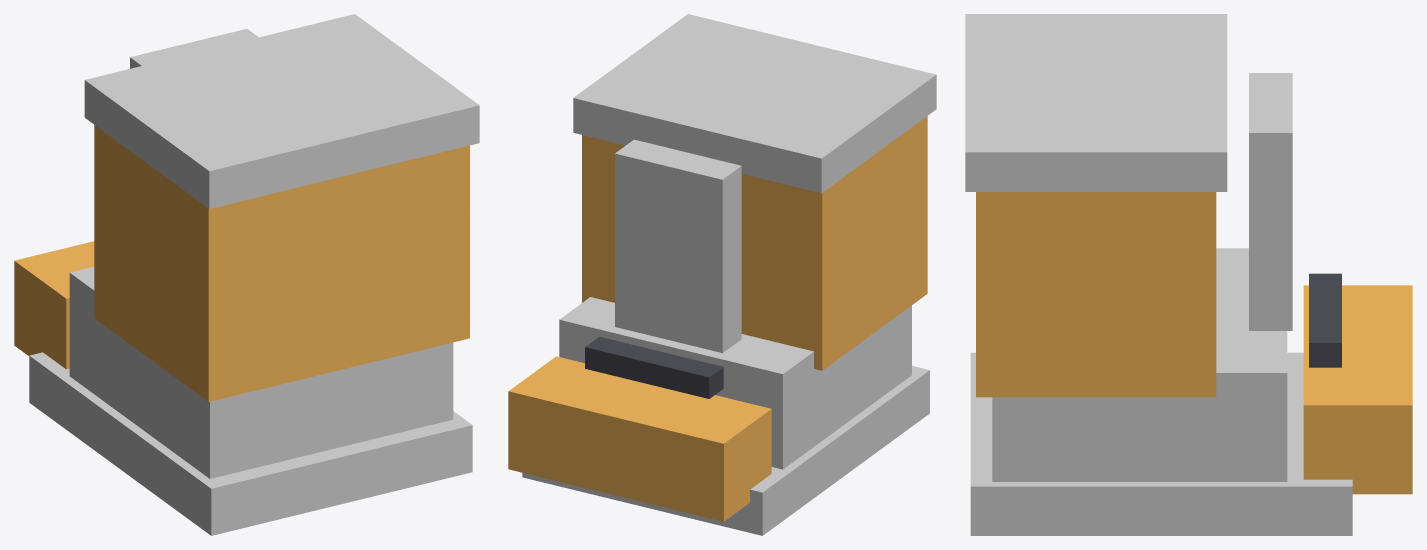
The model's file is tenis_alto_laranja.glb.
The picture shows the model from 3 angles, left to right: view 1: azimuth 30°, elevation 25°; view 2: azimuth 150°, elevation 25°; view 3: azimuth 270°, elevation 25°; orthographic projection. The views are drawn at different scales.
Visible parts, largest first — view 1: tenis_alto_laranja; view 2: tenis_alto_laranja; view 3: tenis_alto_laranja.
Part boxes in pixels (x1,y1,x2,y2): tenis_alto_laranja: (14,14,479,535); tenis_alto_laranja: (508,14,936,535); tenis_alto_laranja: (965,14,1412,535).
Size of the model in its own units: 0.3 by 0.39 by 0.41.
